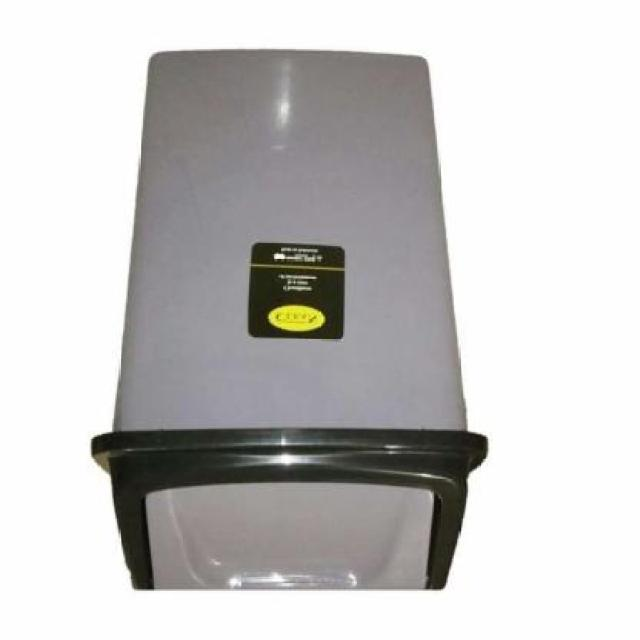garbage container: (80, 28, 500, 604)
